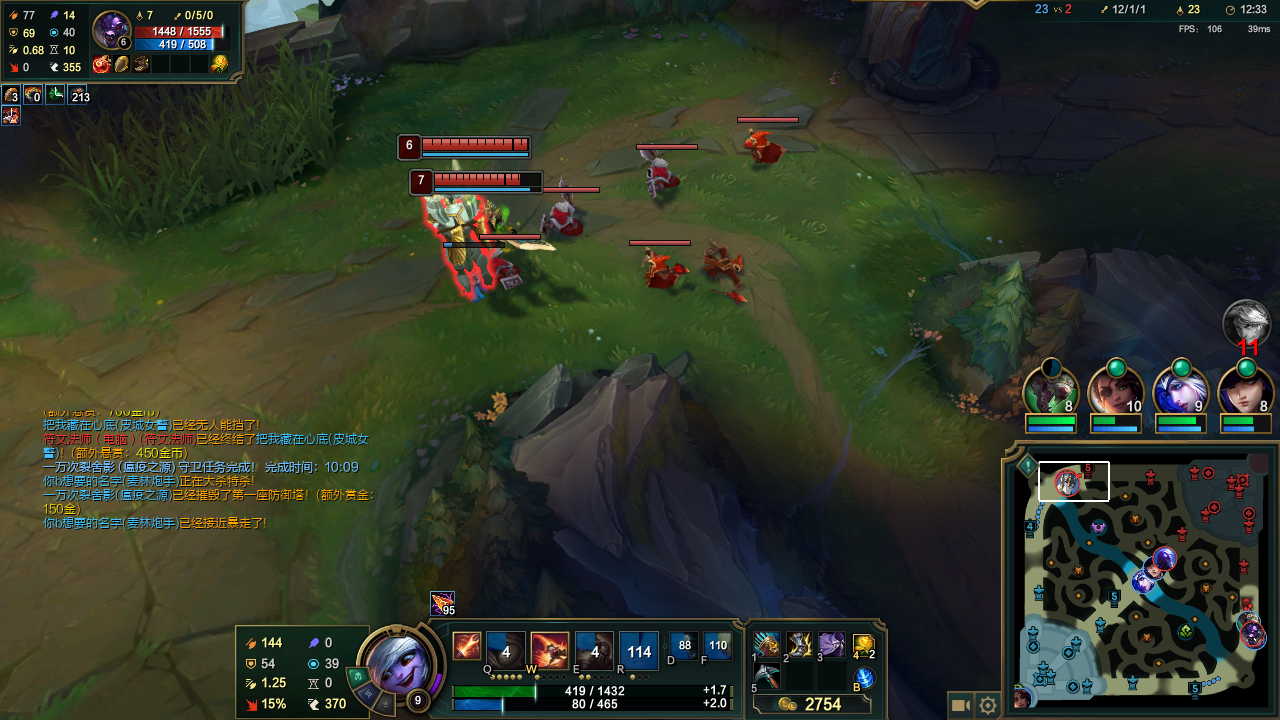DFXB: (532, 191, 596, 249), (632, 146, 690, 202), (637, 249, 695, 299), (736, 120, 797, 163)
DFYX: (428, 172, 495, 198), (435, 134, 501, 156)
Yita: (1187, 674, 1202, 698)
